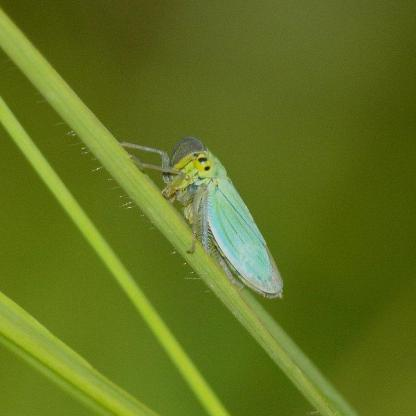Green-Leafhopper: (122, 127, 287, 306)
